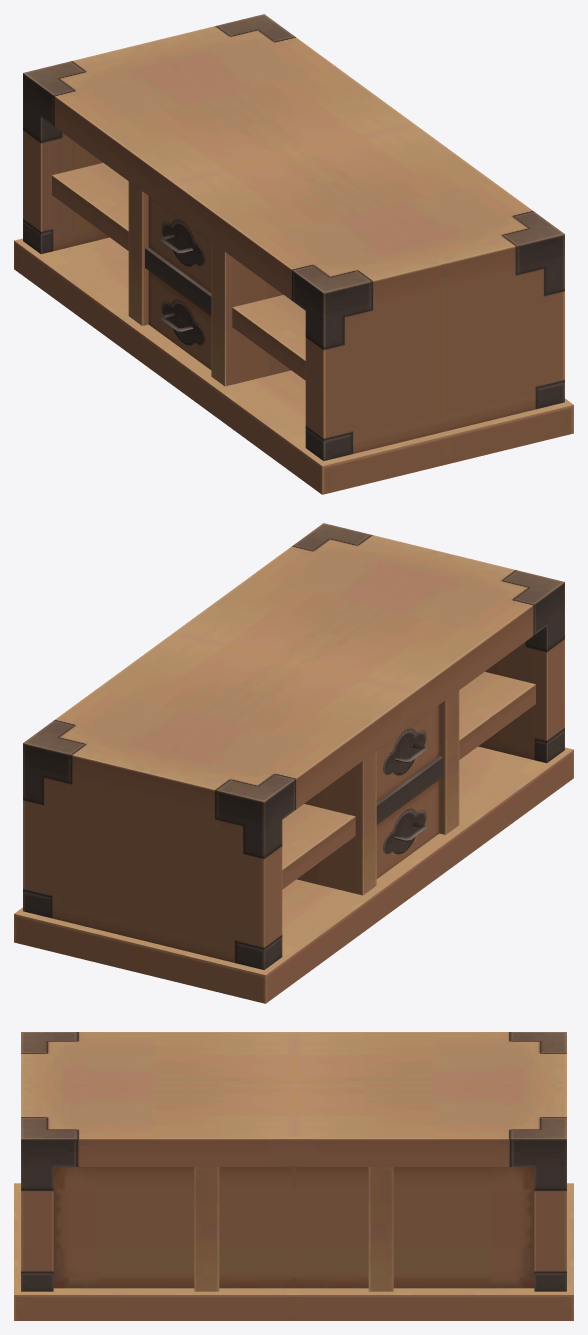
The model's file is my_hyakkiyako_01_shelf_01.glb.
3 views of the same model, one above another, from view 1: azimuth 30°, elevation 25°; view 2: azimuth 150°, elevation 25°; view 3: azimuth 270°, elevation 25° (orthographic). The views are drawn at different scales.
Visible parts, largest first — view 1: my_hyakkiyako_01_shelf_01; view 2: my_hyakkiyako_01_shelf_01; view 3: my_hyakkiyako_01_shelf_01.
Part boxes in pixels (<box>): my_hyakkiyako_01_shelf_01: <box>14,14,573,494</box>; my_hyakkiyako_01_shelf_01: <box>14,523,573,1003</box>; my_hyakkiyako_01_shelf_01: <box>14,1032,573,1320</box>.
Size of the model in its own units: 0.00501 by 0.00376 by 0.0106.
1 material, 1 textured.
